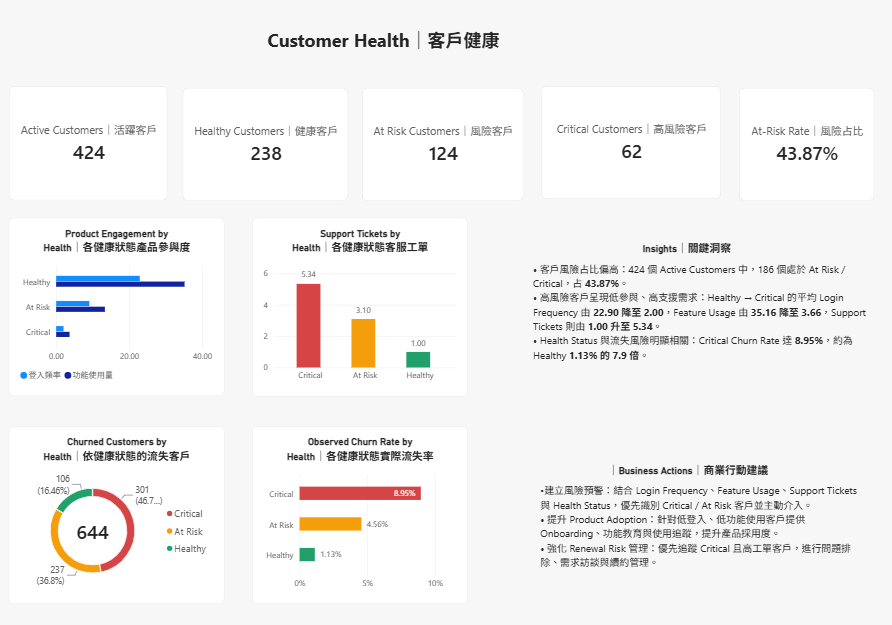

Layout of this report page (visuals, bound fields, positions):
{"tool":"powerbi","page":{"name":"Customer Health｜客戶健康","canvas":[1920,1080],"ordinal":3},"visuals":[{"type":"cardVisual","fields":{"Data":["saas_revops monthly_revenue.Current Critical Customers"]},"box":[811.2,161.2,267.1,168.6],"z":0},{"type":"cardVisual","fields":{"Data":["saas_revops monthly_revenue.Current Healthy Customers"]},"box":[277.5,162.5,246.7,168.3],"z":1000},{"type":"cardVisual","fields":{"Data":["saas_revops monthly_revenue.Current Active Customers"]},"box":[18.8,161.2,236.7,170],"z":2000},{"type":"cardVisual","fields":{"Data":["saas_revops monthly_revenue.Current At Risk Customers"]},"box":[543.8,162.5,240,168.6],"z":3000},{"type":"clusteredBarChart","title":"Product Engagement by Health｜各健康狀態產品參與度","fields":{"Category":["saas_revops product_usage.health_status"],"Y":["saas_revops product_usage.Current Avg Login Frequency","saas_revops product_usage.Current Avg Feature Usage"]},"box":[18.8,357.5,320,265],"z":4000},{"type":"clusteredColumnChart","title":"Support Tickets by Health｜各健康狀態客服工單","fields":{"Category":["saas_revops product_usage.health_status"],"Y":["saas_revops product_usage.Current Avg Support Tickets"]},"box":[380,357.5,320,266],"z":5000},{"type":"donutChart","title":"Churned Customers by Health｜依健康狀態的流失客戶","fields":{"Category":["saas_revops product_usage.health_status"],"Y":["saas_revops product_usage.Churned Customers by Health"]},"box":[18.8,667.5,320,264],"z":6000},{"type":"clusteredBarChart","title":"Observed Churn Rate by Health｜各健康狀態實際流失率","fields":{"Category":["saas_revops product_usage.health_status"],"Y":["saas_revops product_usage.Observed Churn Rate by Health"]},"box":[380,667.5,320,264],"z":7000},{"type":"cardVisual","fields":{"Data":["saas_revops monthly_revenue.Current At-Risk Rate"]},"box":[1105,162.5,201.4,168.6],"z":8000},{"type":"textbox","title":"Insights｜關鍵洞察","box":[756,388,541.2,201.2],"z":9000},{"type":"textbox","title":"｜Business Actions｜商業行動建議","box":[766,718,522.7,164.5],"z":10000},{"type":"textbox","box":[265,70,602.5,65],"z":11000}]}

Visuals, with their boxes on the page's 1920x1080 design canvas (x1, y1, x2, y2). These are canvas units, not pixel positions in the 892x625 screenshot, which may show the page scaled, cropped or inside an application window:
cardVisual - saas_revops monthly_revenue.Current Critical Customers: 811, 161, 1078, 330
cardVisual - saas_revops monthly_revenue.Current Healthy Customers: 278, 162, 524, 331
cardVisual - saas_revops monthly_revenue.Current Active Customers: 19, 161, 256, 331
cardVisual - saas_revops monthly_revenue.Current At Risk Customers: 544, 162, 784, 331
"Product Engagement by Health｜各健康狀態產品參與度" clusteredBarChart: 19, 358, 339, 622
"Support Tickets by Health｜各健康狀態客服工單" clusteredColumnChart: 380, 358, 700, 624
"Churned Customers by Health｜依健康狀態的流失客戶" donutChart: 19, 668, 339, 932
"Observed Churn Rate by Health｜各健康狀態實際流失率" clusteredBarChart: 380, 668, 700, 932
cardVisual - saas_revops monthly_revenue.Current At-Risk Rate: 1105, 162, 1306, 331
"Insights｜關鍵洞察" textbox: 756, 388, 1297, 589
"｜Business Actions｜商業行動建議" textbox: 766, 718, 1289, 882
textbox: 265, 70, 868, 135
